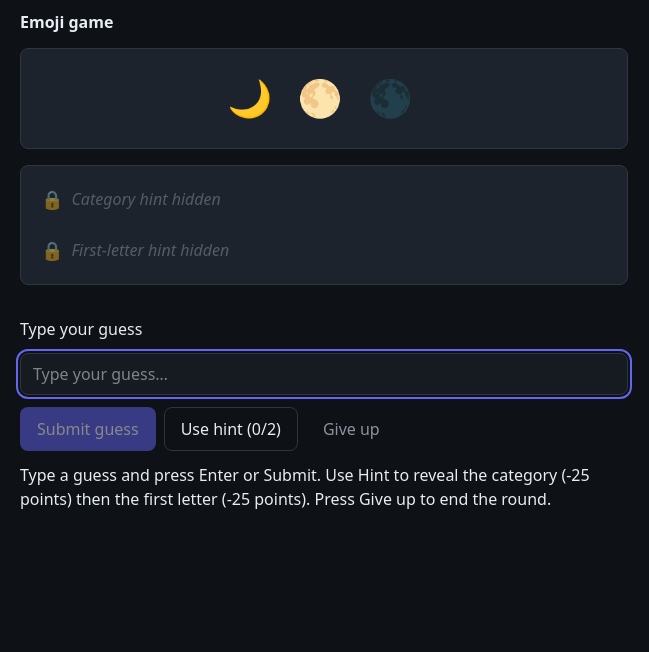
EmojiGame — storage error handling › shows a toast when recordModeResult throws (storage unavailable)
Type "Moon" into the text box labelled "Type your guess" at (324, 374), box [20,353,628,395]
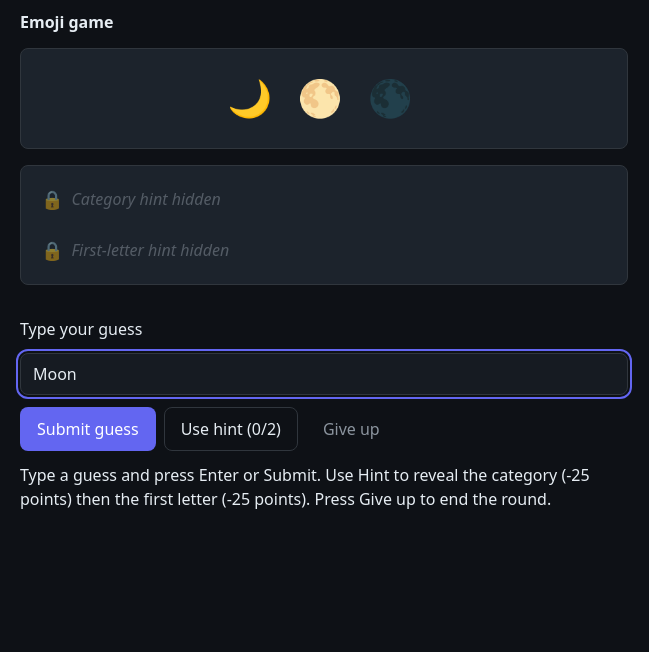
Click the button "Submit guess" at (88, 429), box [20,407,156,451]
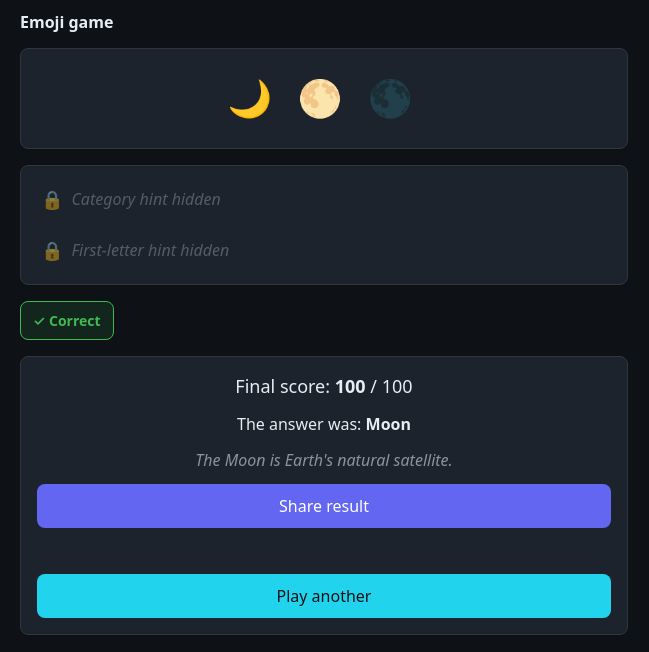
Expected: the text "100" is shown, [335,374,366,398]
